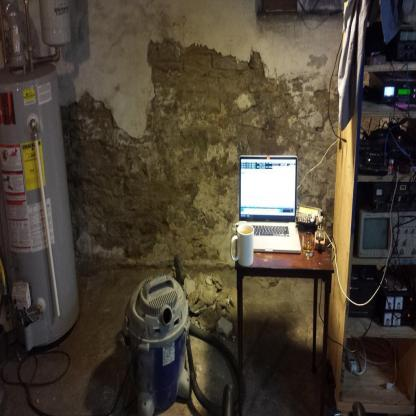board: (240, 154, 301, 254)
